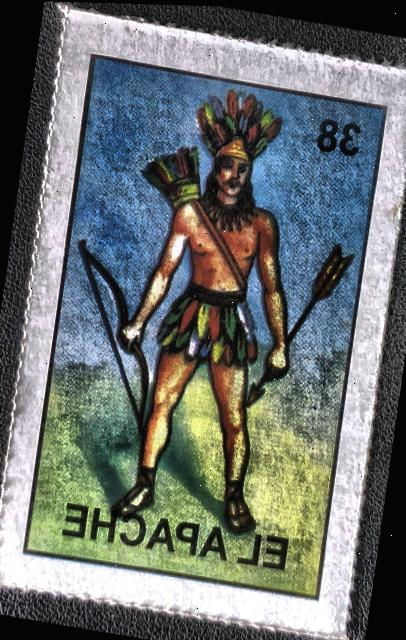El Apache: (3, 25, 406, 627)
